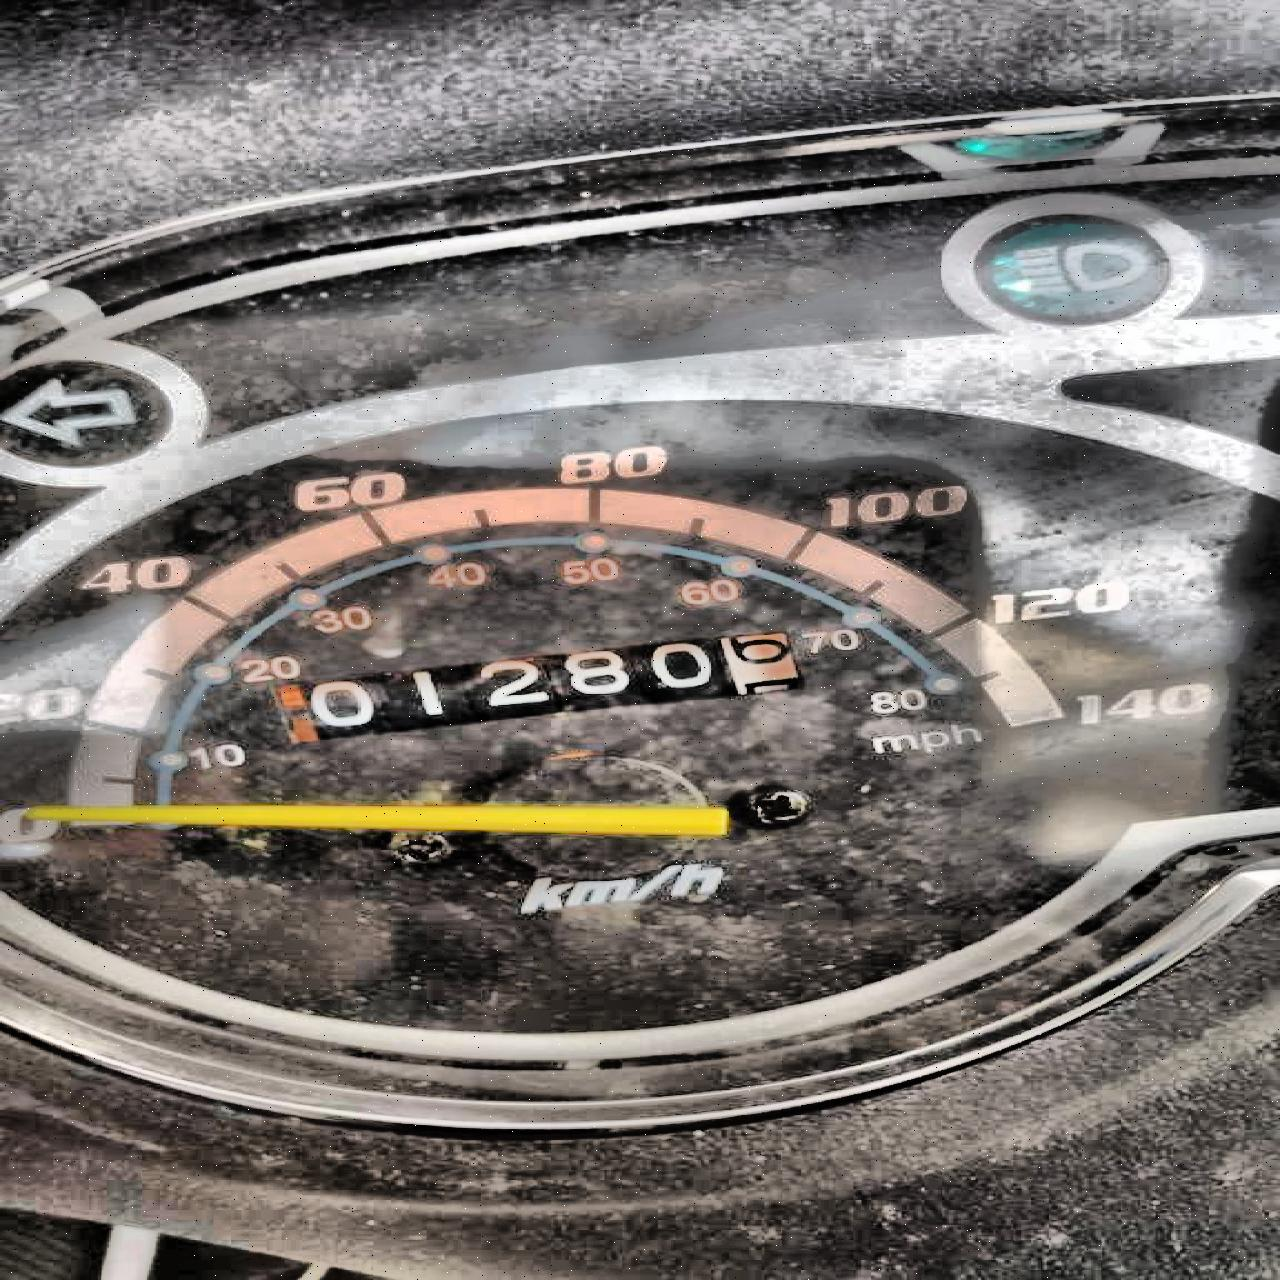0: (307, 680, 373, 726), (651, 642, 712, 688), (268, 655, 298, 678)
1: (407, 669, 444, 715)
2: (474, 658, 549, 707)
6: (724, 632, 789, 663)
7: (738, 674, 799, 695)
8: (561, 651, 631, 695)
odometer: (263, 626, 802, 745)
